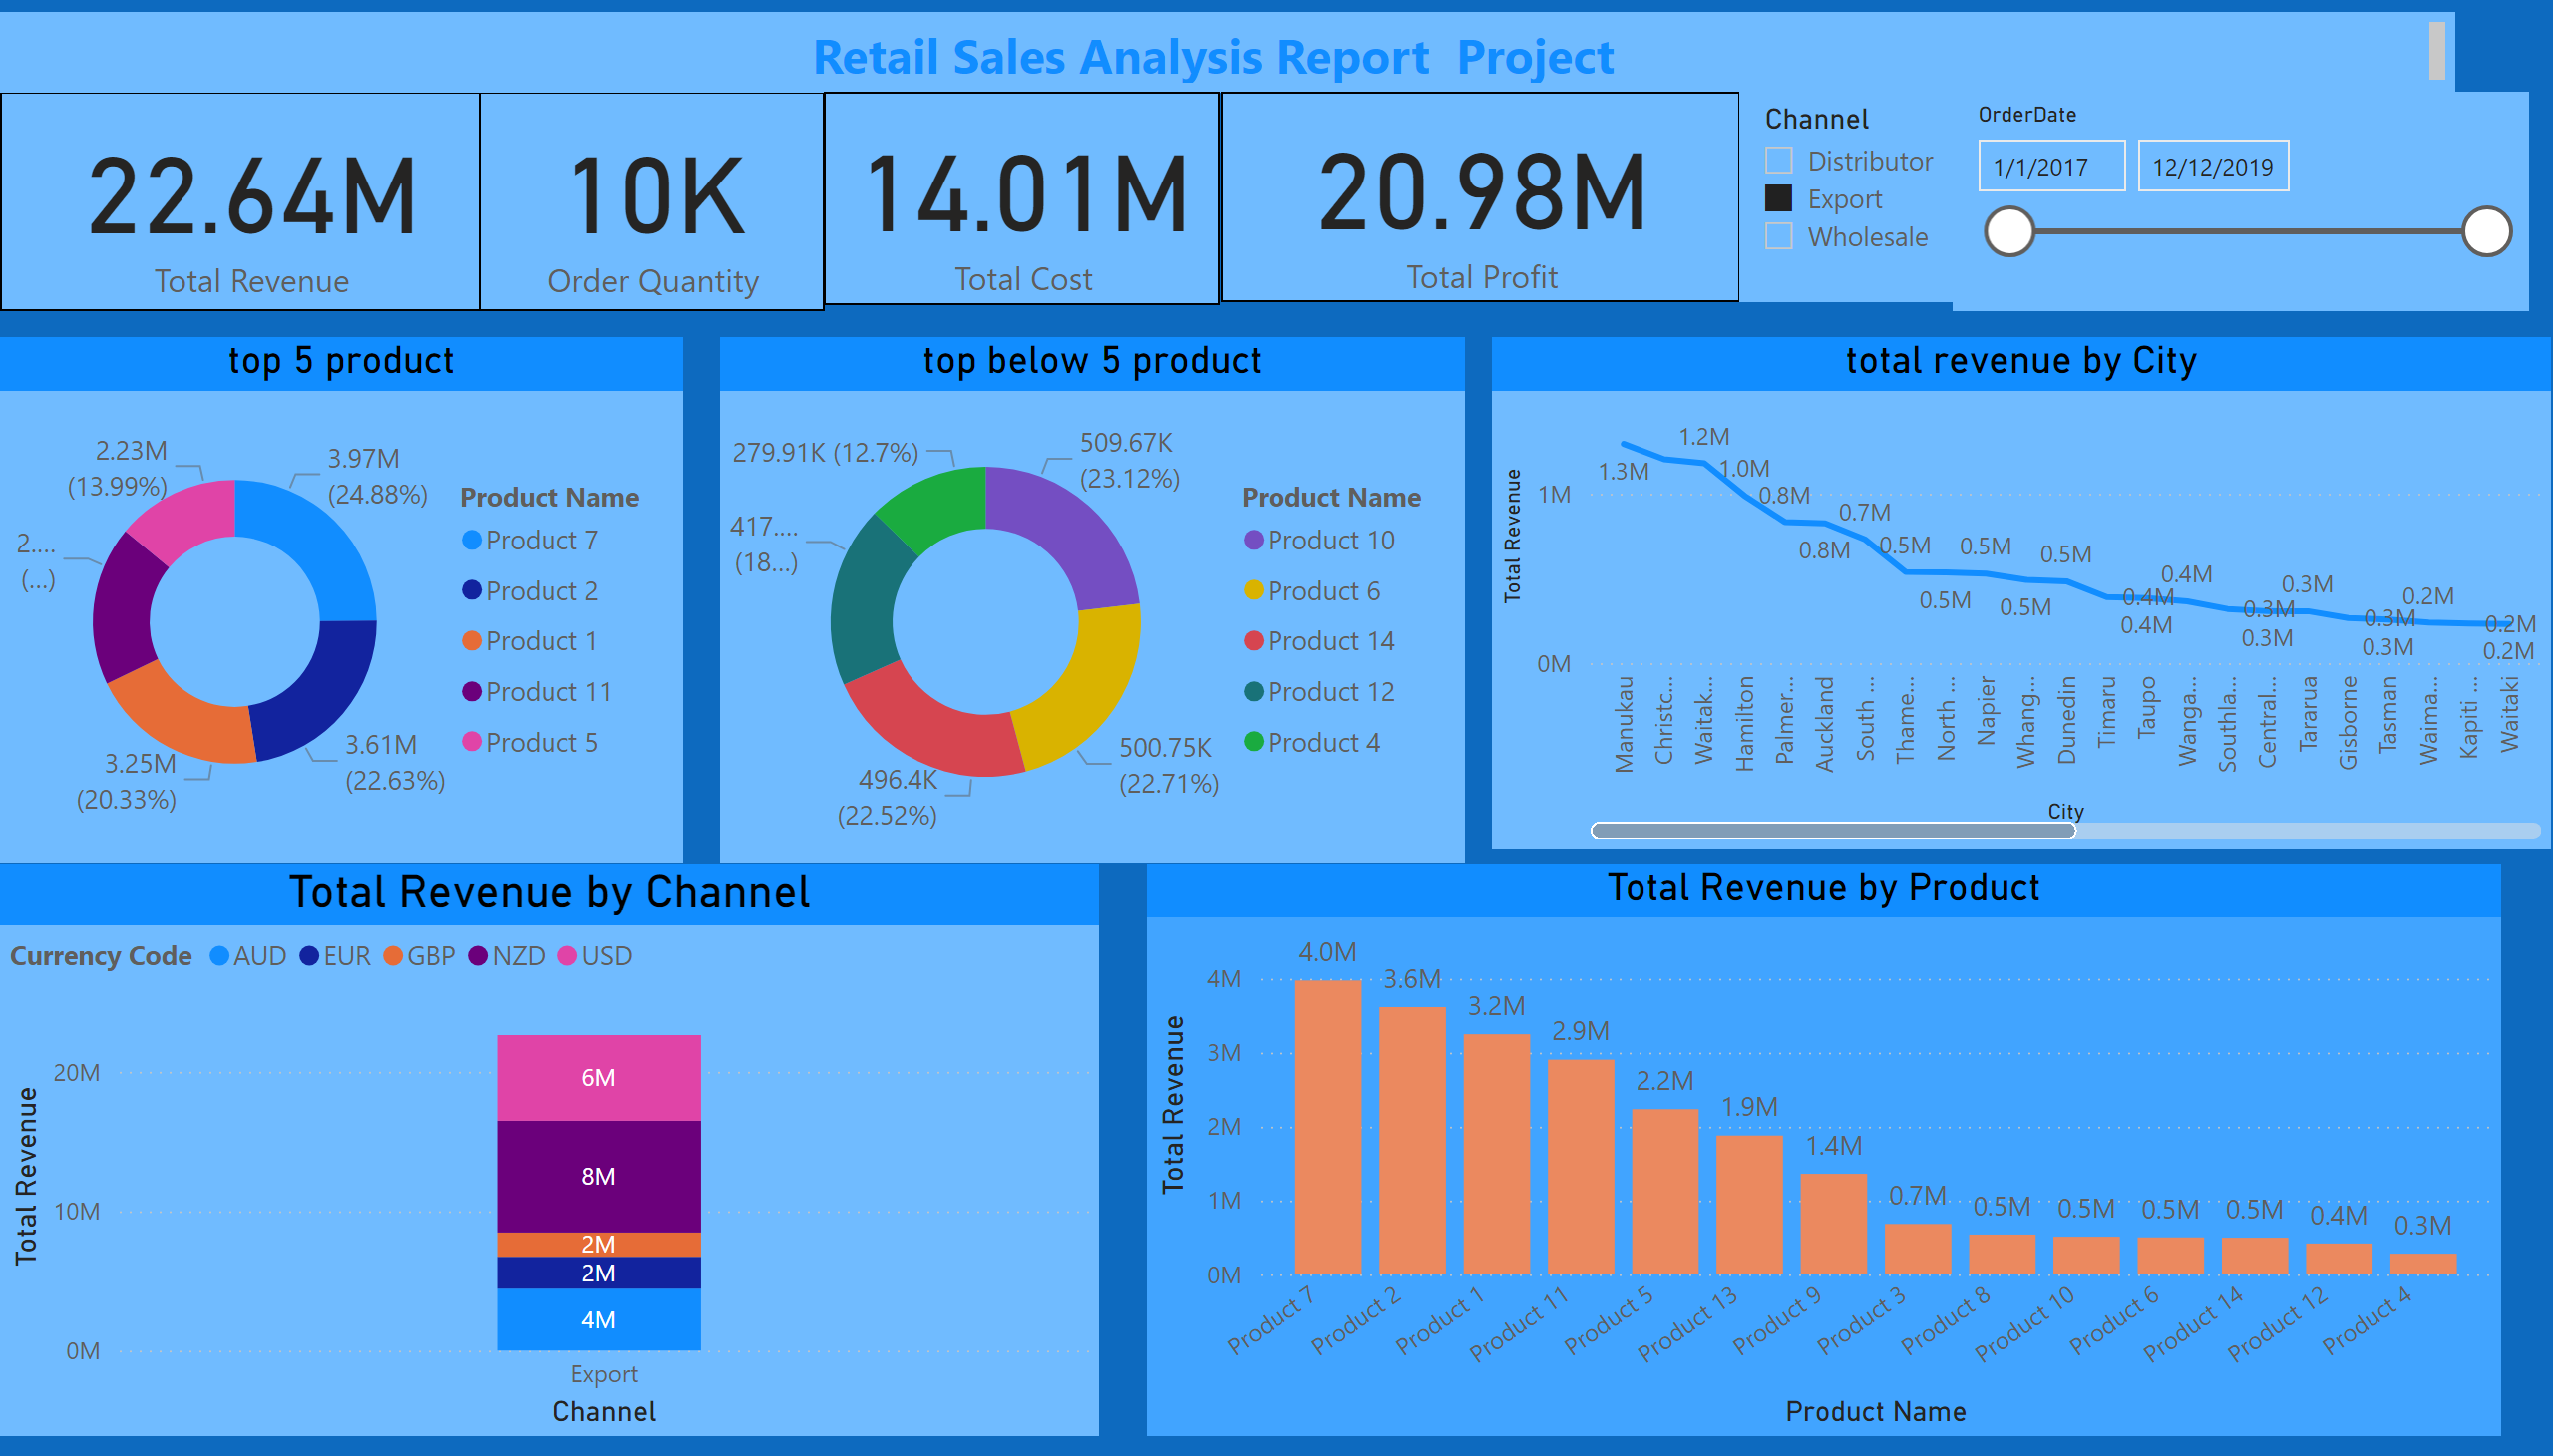

What the dashboard file says about the page in this screenshot:
{"tool":"powerbi","page":{"name":"Page 1","canvas":[1280,720],"ordinal":0},"visuals":[{"type":"columnChart","title":"Total Revenue by Product","fields":{"Y":["Sum(Sales_Data.Total Revenue)"],"Category":["Products_Data.Product Name"]},"box":[574.9,432.6,679.1,287.4],"z":0},{"type":"columnChart","title":"Total Revenue by Channel","fields":{"Y":["Sum(Sales_Data.Total Revenue)"],"Category":["Sales_Data.Channel"],"Series":["Sales_Data.Currency Code"]},"box":[0,432.6,550.9,287.4],"z":1000},{"type":"donutChart","title":"top 5 product","fields":{"Category":["Products_Data.Product Name"],"Y":["Sum(Sales_Data.Total Revenue)"]},"box":[0,169.1,342.4,263.5],"z":2000},{"type":"donutChart","title":"top below 5 product","fields":{"Category":["Products_Data.Product Name"],"Y":["Sum(Sales_Data.Total Revenue)"]},"box":[360.7,169.1,373.4,263.5],"z":3000},{"type":"lineChart","title":"total revenue by City","fields":{"Y":["Sum(Sales_Data.Total Revenue)"],"Category":["Regions_Table.City"]},"box":[748.2,169.1,531.2,256.4],"z":4000},{"type":"card","fields":{"Values":["Sum(Sales_Data.Total Revenue)"]},"box":[0,46.5,250.8,109.9],"z":5000},{"type":"card","fields":{"Values":["Sum(Sales_Data.Order Quantity)"]},"box":[239.5,46.5,173.3,109.9],"z":6000},{"type":"textbox","box":[0,5.8,1231.2,40.3],"z":7000},{"type":"card","fields":{"Values":["Sum(Sales_Data.Total Cost)"]},"box":[412.8,46.5,198.7,107.1],"z":8000},{"type":"card","fields":{"Values":["Sum(Sales_Data.Total Profit)"]},"box":[611.5,46.5,260.7,105.7],"z":9000},{"type":"slicer","fields":{"Values":["Sales_Data.Channel"]},"box":[872.2,46.5,119.8,105.7],"z":10000},{"type":"slicer","fields":{"Values":["Sales_Data.OrderDate"]},"box":[979.3,46.5,288.8,109.9],"z":11000}]}

Visuals, with their boxes in screenshot pixels (x1, y1, x2, y2), scaled from the page's 1280x720 canvas onto the 2553x1456 screenshot:
"Total Revenue by Product" columnChart: rect(1147, 875, 2501, 1455)
"Total Revenue by Channel" columnChart: rect(0, 875, 1099, 1455)
"top 5 product" donutChart: rect(0, 342, 683, 875)
"top below 5 product" donutChart: rect(719, 342, 1464, 875)
"total revenue by City" lineChart: rect(1492, 342, 2552, 861)
card - Sum(Sales_Data.Total Revenue): rect(0, 94, 501, 316)
card - Sum(Sales_Data.Order Quantity): rect(478, 94, 824, 316)
textbox: rect(0, 12, 2455, 93)
card - Sum(Sales_Data.Total Cost): rect(824, 94, 1220, 310)
card - Sum(Sales_Data.Total Profit): rect(1220, 94, 1739, 308)
slicer - Sales_Data.Channel: rect(1739, 94, 1979, 308)
slicer - Sales_Data.OrderDate: rect(1954, 94, 2529, 316)
